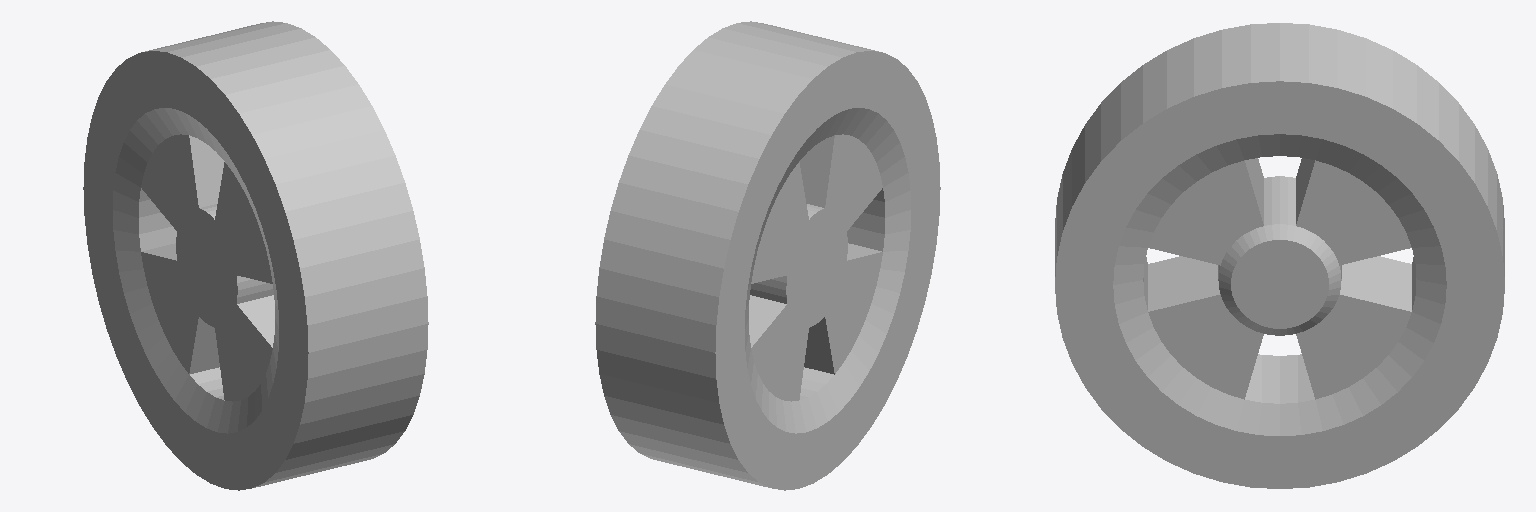
The model's file is cricket_mk2_wheel_left.obj.
The picture shows the model from 3 angles: view 1: azimuth 30°, elevation 25°; view 2: azimuth 150°, elevation 25°; view 3: azimuth 270°, elevation 25°; orthographic projection.
Parts seen in each view (by area): view 1: Wheel_FL.001; view 2: Wheel_FL.001; view 3: Wheel_FL.001.
Boxes of the visible parts, box(x1,y1,x2,y2) form: Wheel_FL.001: box(83, 21, 428, 490); Wheel_FL.001: box(595, 21, 940, 490); Wheel_FL.001: box(1055, 23, 1504, 488).
Size of the model in its own units: 0.1782 by 0.5791 by 0.5791.